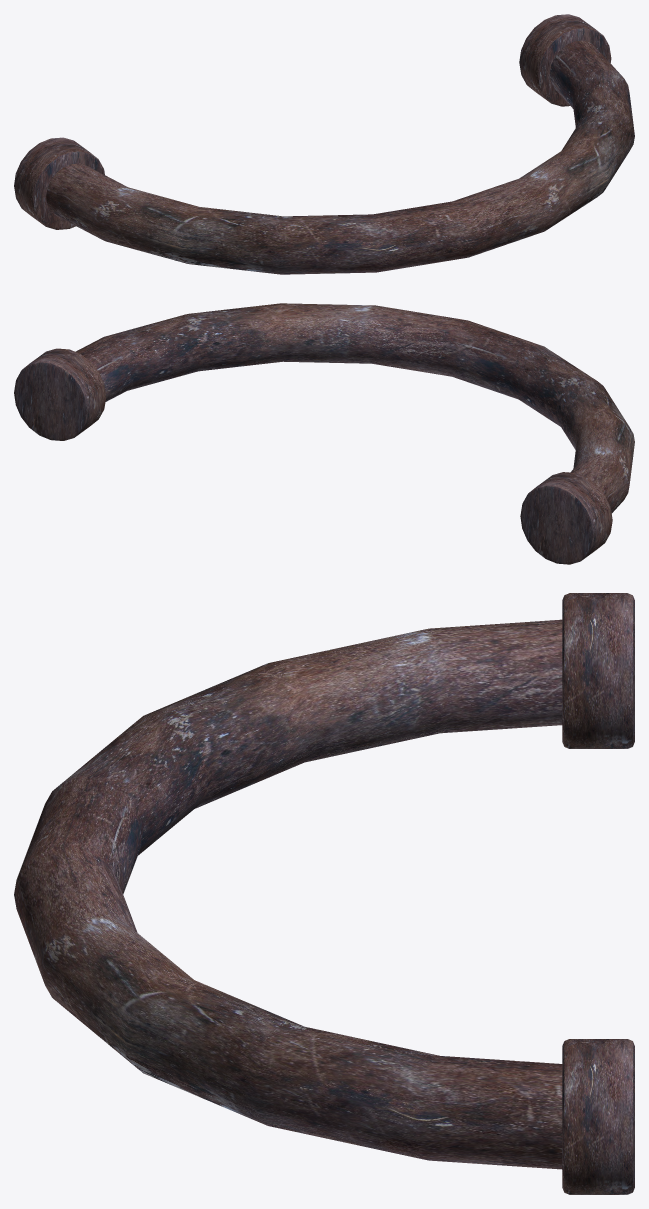
Rendered from RingForGrapplingHok.fbx.
3 renders of one model, top to bottom at view 1: azimuth 30°, elevation 25°; view 2: azimuth 150°, elevation 25°; view 3: azimuth 270°, elevation 25°, orthographic. The views are drawn at different scales.
Parts seen in each view (by area): view 1: ring; view 2: ring; view 3: ring.
Boxes of the visible parts, bbox=[...] form: ring: bbox=[14, 14, 634, 274]; ring: bbox=[14, 303, 634, 564]; ring: bbox=[14, 593, 634, 1194].
Bounding box in the file's own units: 16.1 × 2.09 × 8.25.
